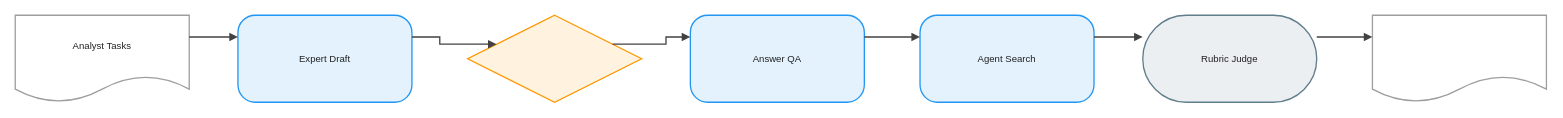
Image size: 1563x118. Some labels were removed from this diagram. The shapes that lost their labels are listed below. From the top down, each one's centre as x and y in pixels, then its label:
At pixel 554 58: "Source QA".
At pixel 1459 58: "Accuracy".
